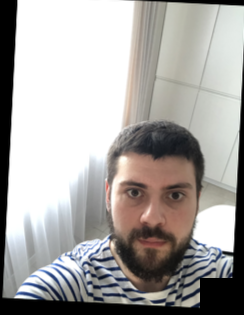without_mask: (111, 170, 197, 283)
